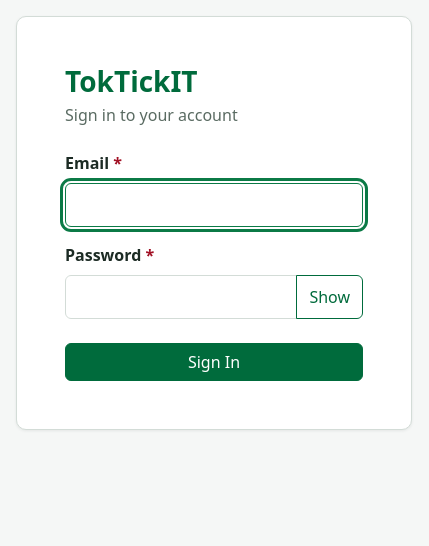
Test case: UI-03 — Login failure feedback (AC-05, AC-06, AC-07, AC-59) › shows the inactive-account message on 403
Type "pat@example.com" into the field labelled "Email *". click: (214, 205)
box: [65,183,363,227]
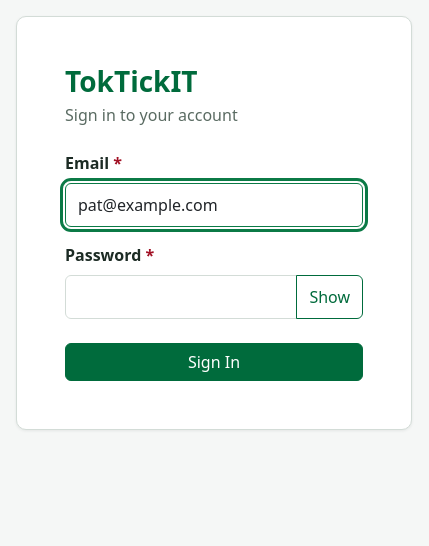
Type "Wrong-Pass1!" into the password field labelled "Password *". click: (181, 297)
box: [65,275,297,319]
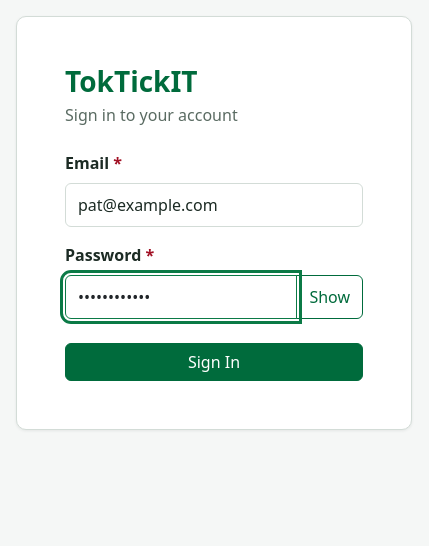
Click the button "Sign In". click: (214, 362)
box: [65,343,363,381]
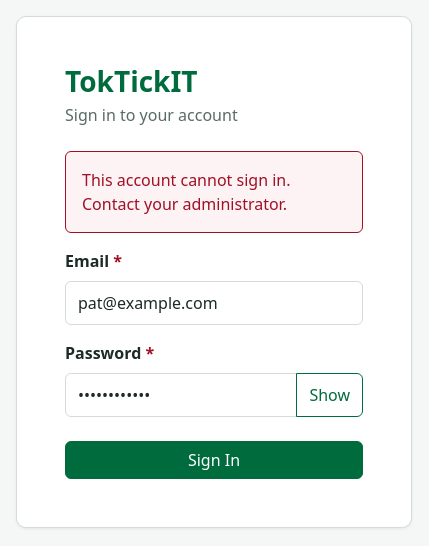
Result: the message reads "This account cannot sign in. Contact your administrator." at [82,169,290,215]
